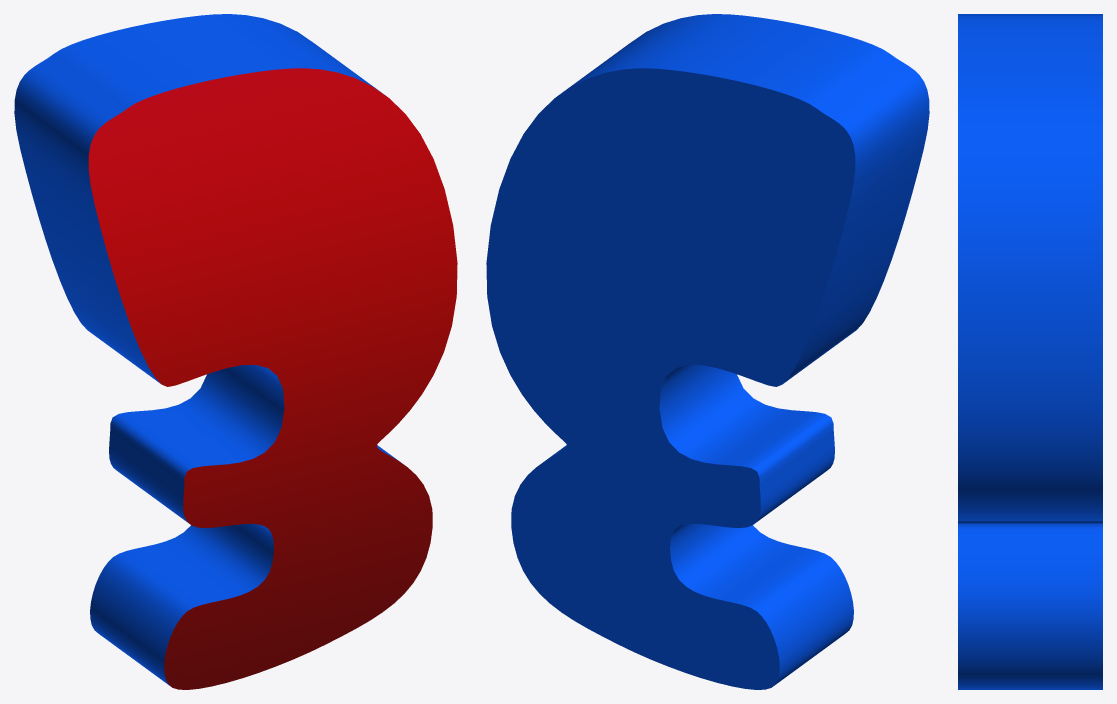
3 views of the same model, side by side, from view 1: azimuth 30°, elevation 25°; view 2: azimuth 150°, elevation 25°; view 3: azimuth 270°, elevation 25° (orthographic). The views are drawn at different scales.
Parts seen in each view (by area): view 1: 3; view 2: 3; view 3: 3.
Boxes of the visible parts, x1,y1,x2,y2 form: 3: (14,14,457,689); 3: (486,14,929,689); 3: (958,14,1102,689).
Bounding box in the file's own units: 57.48 × 90.34 × 20.
Materials: 2 (1 with a texture image).
